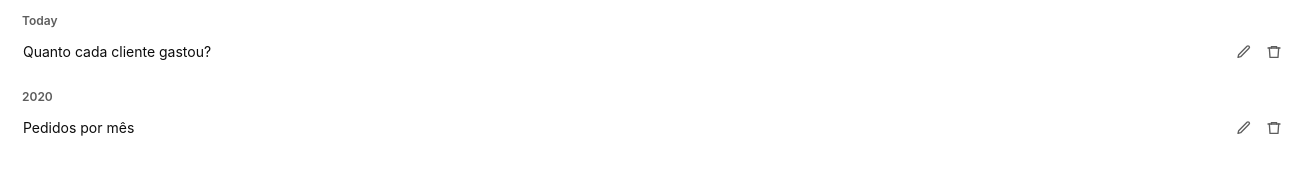
Test: ConversationList › cancels a rename with Escape
This screenshot has width=1304, height=169.
Click the button named "Rename Pedidos por mês" at (1244, 128), box [1230,114,1258,142]
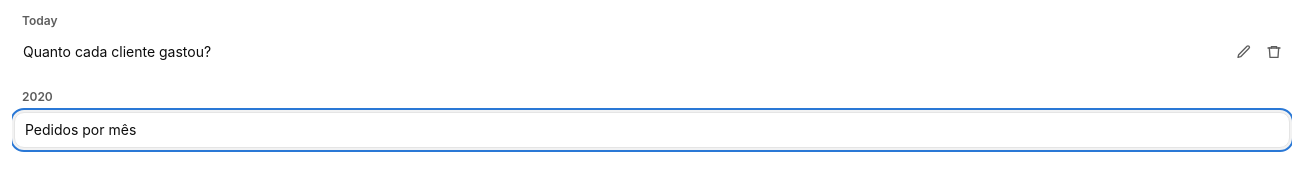
Type " x" into the field named "Chat title" at (652, 130), box [14,112,1290,148]
Then press Escape
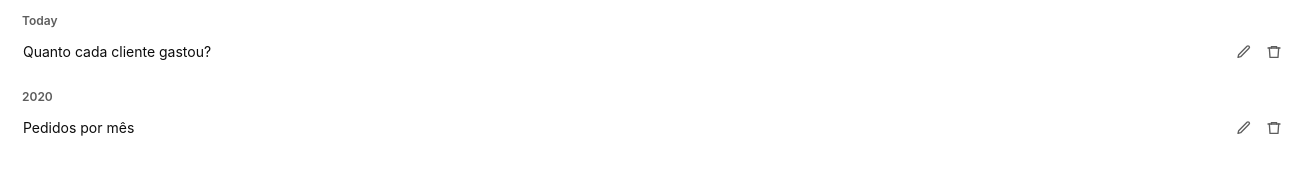
Expected: the button "Pedidos por mês" is shown, [12,110,1230,146]
